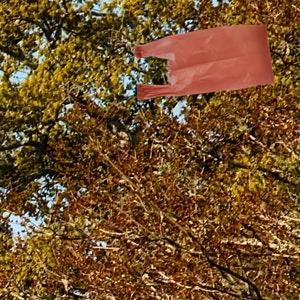plastic_bag: (131, 22, 279, 102)
